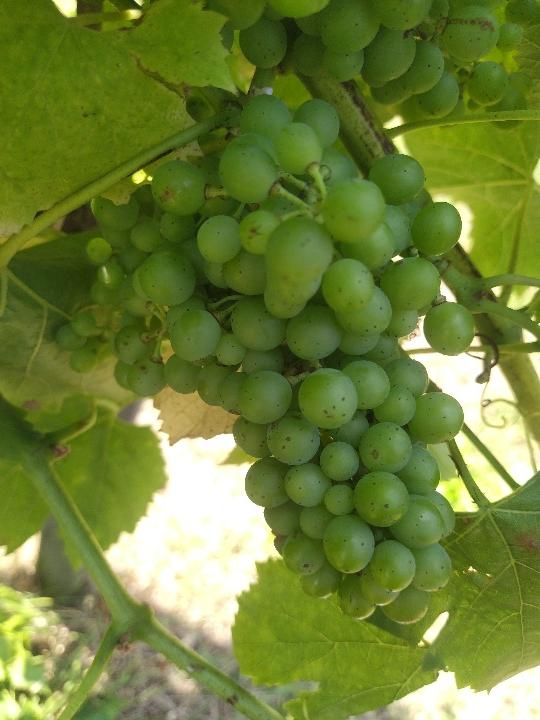grape: (53, 90, 481, 630)
